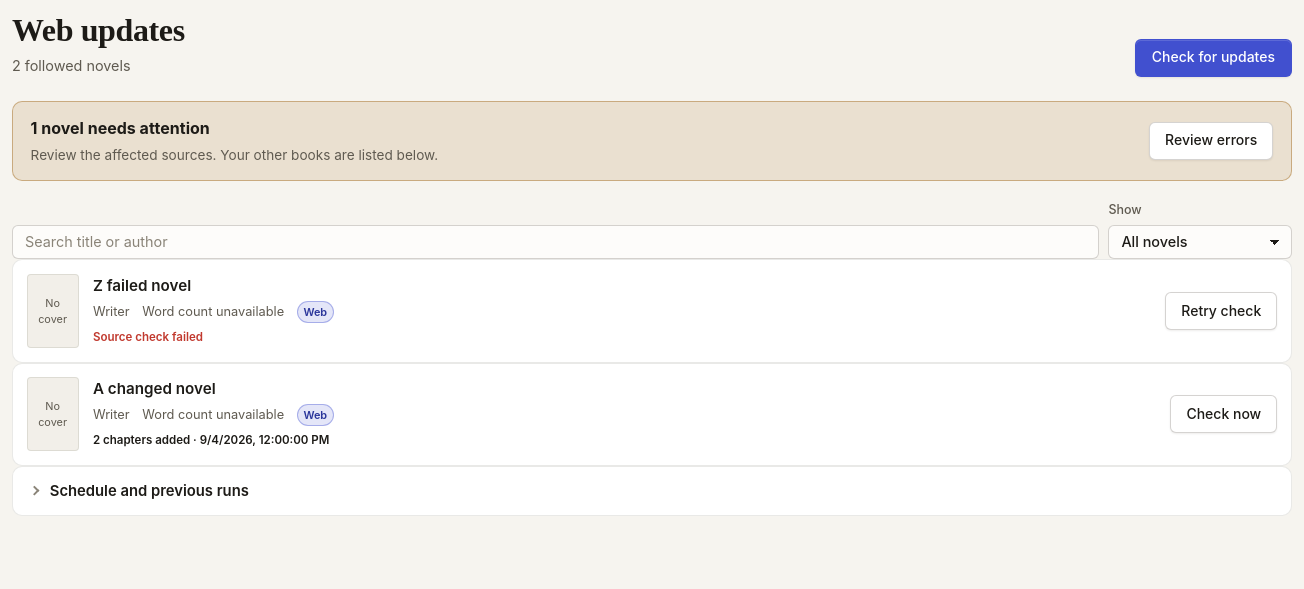
Test: Library workflow actions › surfaces failed source checks first, filters changes, and retries the affected book
expect the text "1 novel needs attention" is shown: met, box 31,118 -> 210,138
expect the 1st link shows "Z failed novel": met, box 27,274 -> 334,348
Click the button "Retry check": {"x": 1221, "y": 311} 1165,292 -> 1277,330
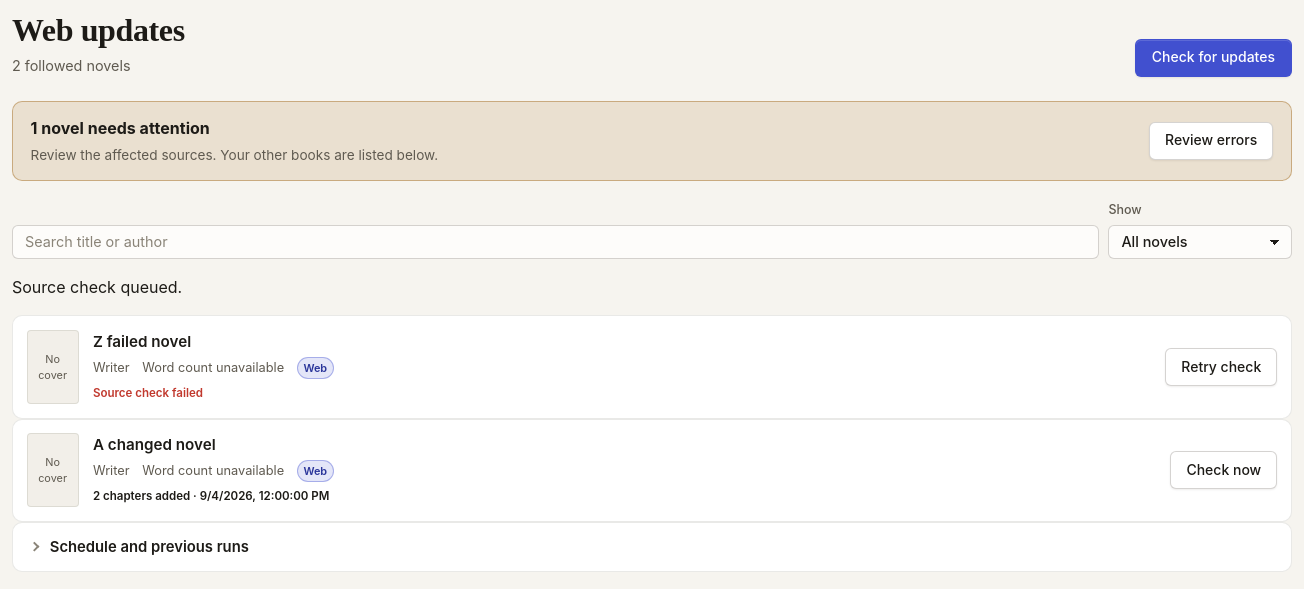
Select "Content updated" in the dropdown named "Filter web updates": {"x": 1200, "y": 242} 1108,225 -> 1292,260
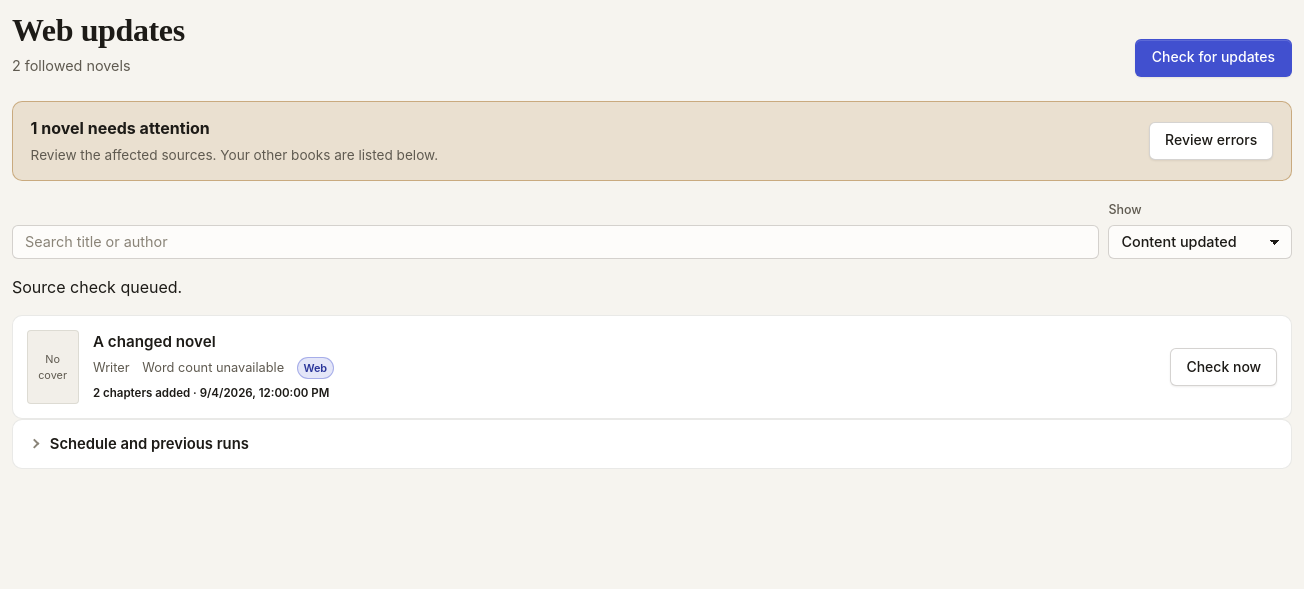
expect the text "A changed novel" is shown: met, box 93,332 -> 216,351
expect the link "Z failed novel" is gone: met
